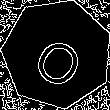O_NE: (25, 21, 88, 87)
